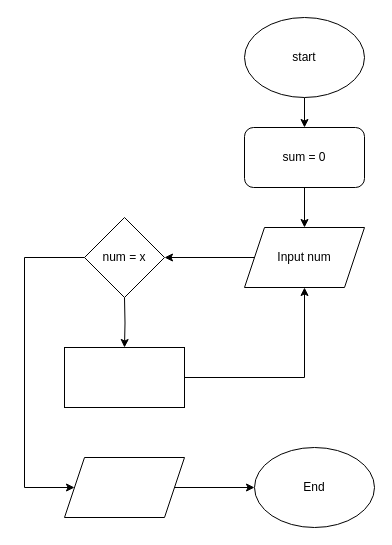
This 392x545 diagram has some shape labels left out. The shapes that lost their labels are listed below. From the top down, each one's centre as x and y in pixels, then its label:
At (x=124, y=377): "sum = sum + x".
At (x=124, y=487): "Output sum".
